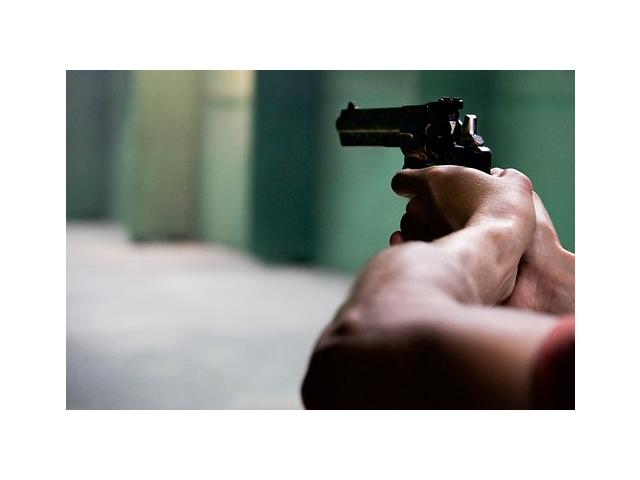pistol: (333, 93, 492, 241)
